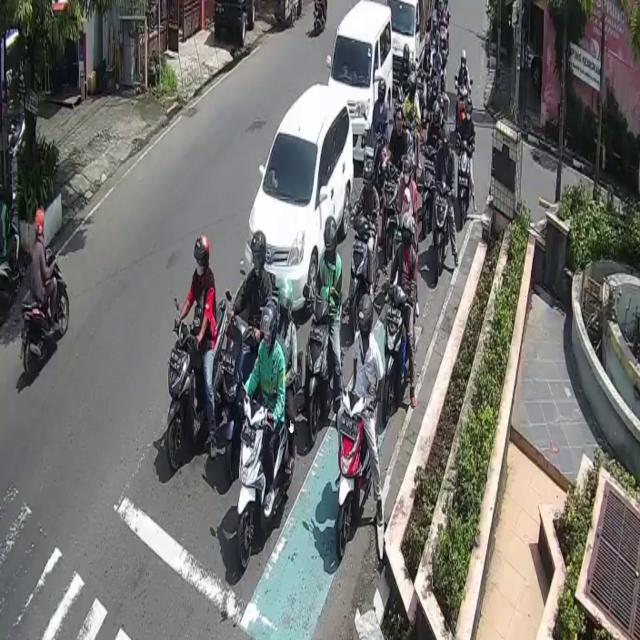bus: (163, 297, 234, 474), (237, 396, 290, 568), (22, 247, 70, 382), (337, 387, 372, 555), (305, 298, 333, 447), (383, 290, 412, 429), (352, 213, 377, 304), (434, 184, 453, 276), (457, 139, 474, 229)
motorcycle: (243, 81, 354, 319), (329, 0, 394, 162), (388, 0, 427, 74)
